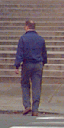person: (10, 17, 52, 114)
